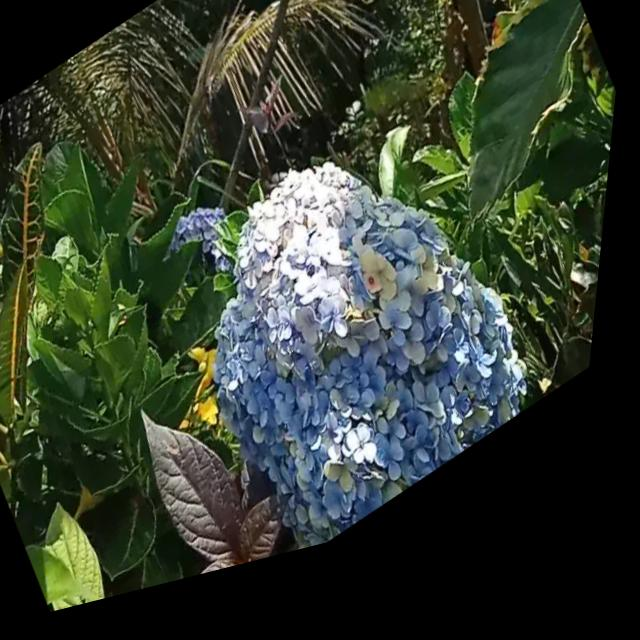Flower: (146, 75, 581, 601)
